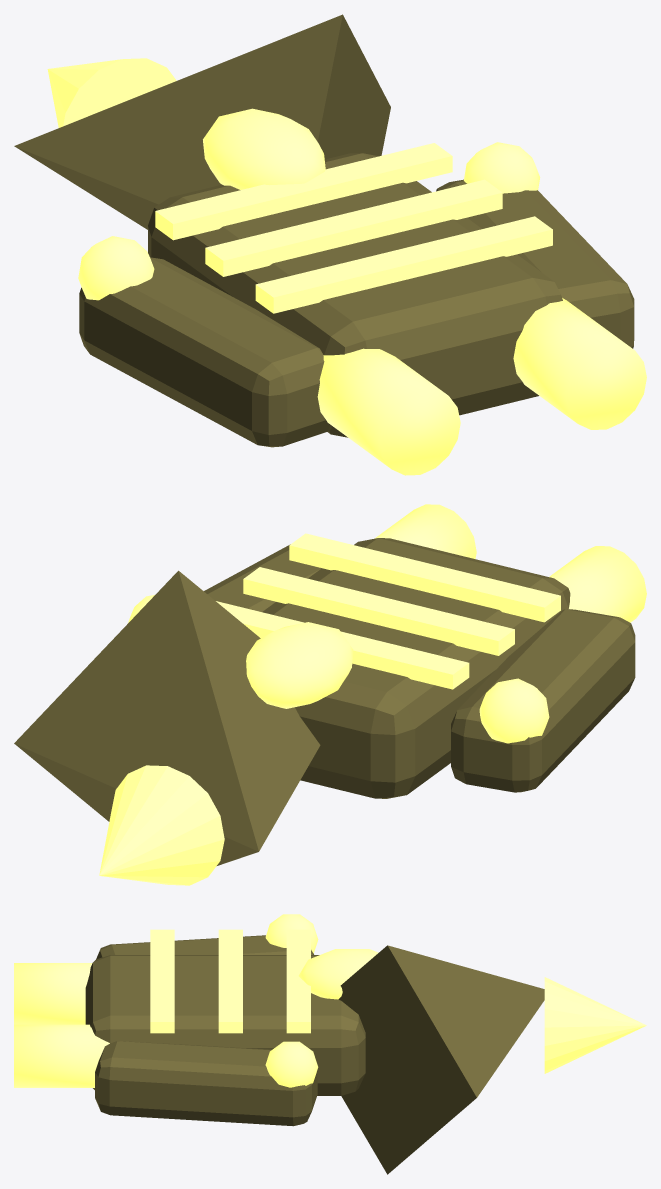
File: charger.glb
The picture shows the model from 3 angles, top to bottom: view 1: azimuth 30°, elevation 25°; view 2: azimuth 150°, elevation 25°; view 3: azimuth 270°, elevation 25°; orthographic projection. The views are drawn at different scales.
Visible parts, largest first — view 1: hull, ram, flank, thruster, thruster.001, stripe.001, stripe, stripe.002, flank.001, eye, ram_tip, lamp (+1 smaller); view 2: ram, hull, flank, ram_tip, stripe, stripe.001, eye, thruster, stripe.002, lamp, thruster.001, flank.001; view 3: ram, hull, flank.001, thruster.001, ram_tip, thruster, stripe, stripe.001, stripe.002, eye, flank, lamp.001 (+1 smaller).
Boxes of the visible parts, x1,y1,x2,y2 form: hull: (148,153,562,437); ram: (14,14,390,229); flank: (79,257,331,447); thruster: (317,348,460,475); thruster.001: (513,298,646,429); stripe.001: (205,179,502,276); stripe: (255,216,552,313); stripe.002: (155,143,452,240); flank.001: (436,179,634,348); eye: (203,108,325,189); ram_tip: (47,58,176,127); lamp: (78,236,154,300); ram: (14,570,320,865); hull: (262,538,570,798); flank: (451,609,635,792); ram_tip: (99,765,224,885); stripe: (289,533,560,622); stripe.001: (243,567,514,655); eye: (246,622,353,708); thruster: (549,546,646,622); stripe.002: (216,601,469,689); lamp: (479,678,549,743); thruster.001: (375,504,476,558); flank.001: (204,544,321,611); ram: (338,945,544,1174); hull: (85,955,365,1095); flank.001: (95,1041,317,1126); thruster.001: (14,1024,109,1087); ram_tip: (544,977,646,1073); thruster: (14,963,92,1024); stripe: (150,929,174,1033); stripe.001: (218,929,242,1033); stripe.002: (286,929,310,1033); eye: (298,949,378,999); flank: (96,935,313,959); lamp.001: (265,1041,318,1087).
Bounding box in the file's own units: 1.45 × 1.04 × 2.6.
